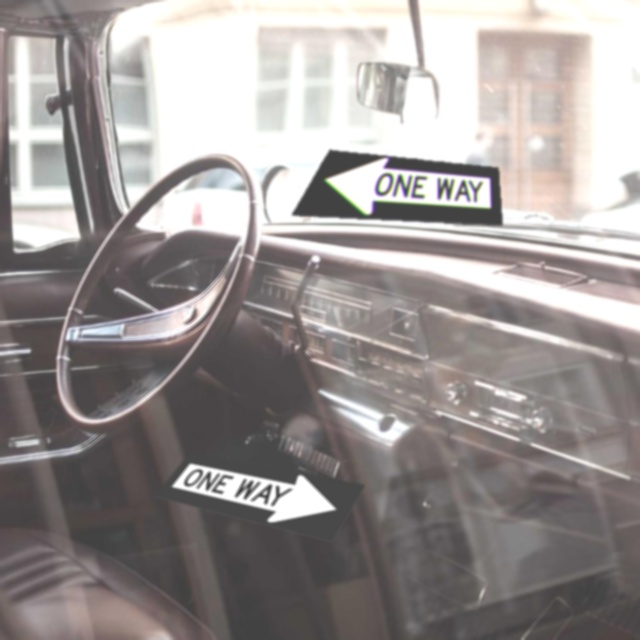ONE_WAY_ left: (290, 149, 503, 226)
ONE_WAY_ right: (153, 451, 366, 542)
